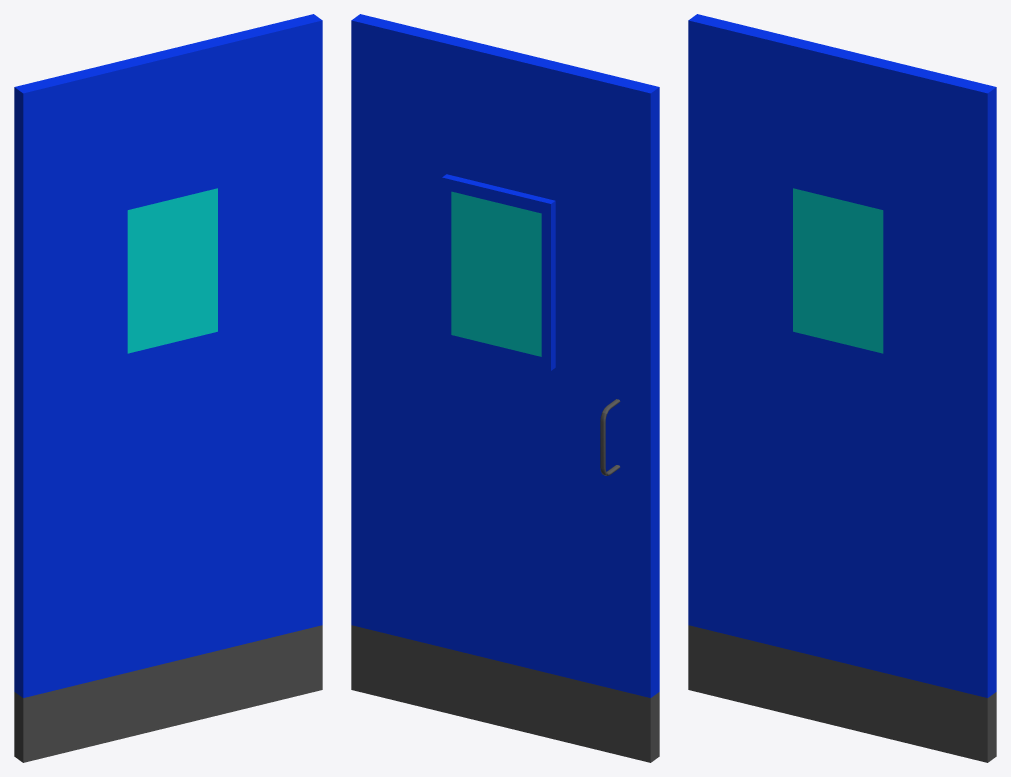
The model's file is doorOne.fbx.
The picture shows the model from 3 angles, left to right: view 1: azimuth 30°, elevation 25°; view 2: azimuth 150°, elevation 25°; view 3: azimuth 330°, elevation 25°; orthographic projection.
Visible parts, largest first — view 1: Cube; view 2: Cube; view 3: Cube.
Boxes of the visible parts, x1,y1,x2,y2 form: Cube: (14, 14, 322, 762); Cube: (351, 14, 659, 762); Cube: (688, 14, 996, 762).
Bounding box in the file's own units: 158 × 337 × 22.46.
